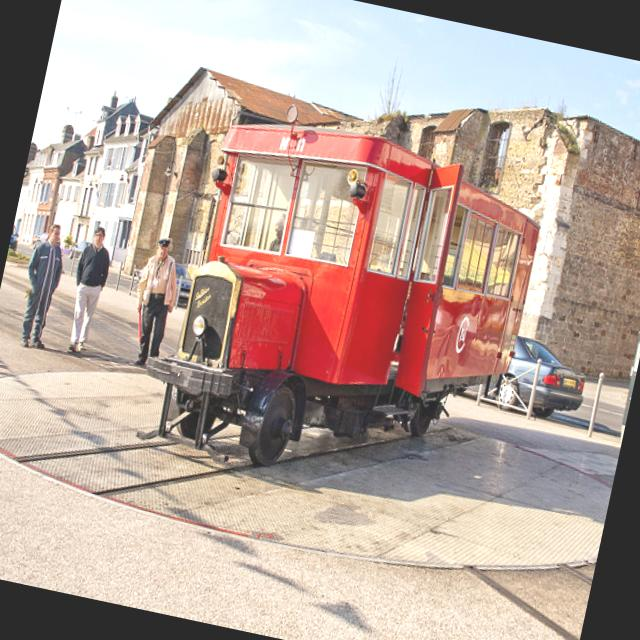Vehicle: (495, 332, 593, 427), (8, 222, 18, 252)
